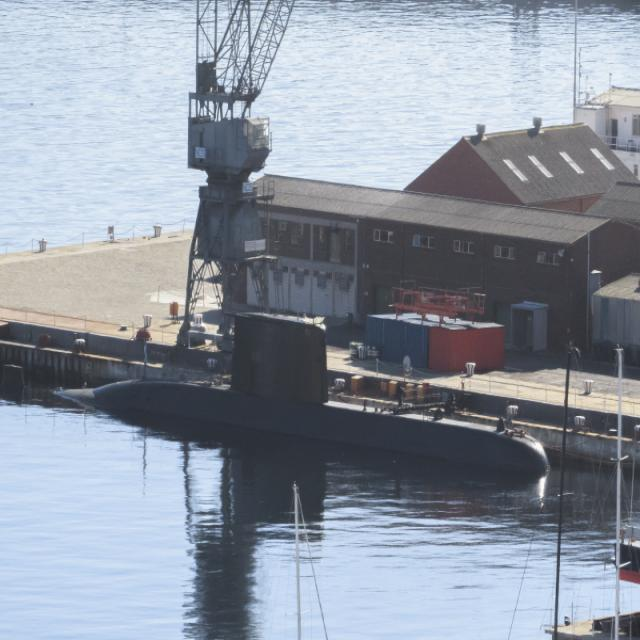submarine: (57, 314, 550, 476)
